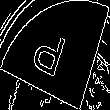P_S: (34, 25, 76, 85)
